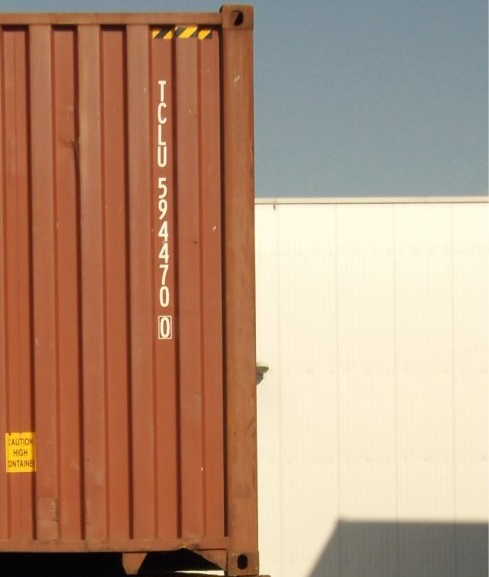container_no_door: (1, 7, 260, 575)
